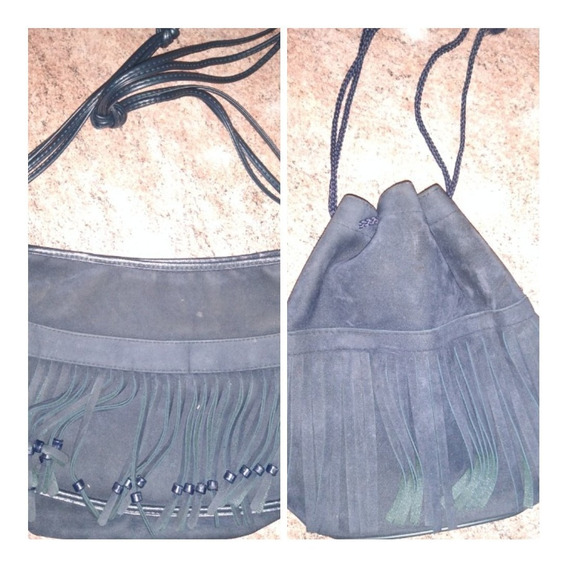cartera: (27, 28, 279, 540), (291, 31, 539, 541)
